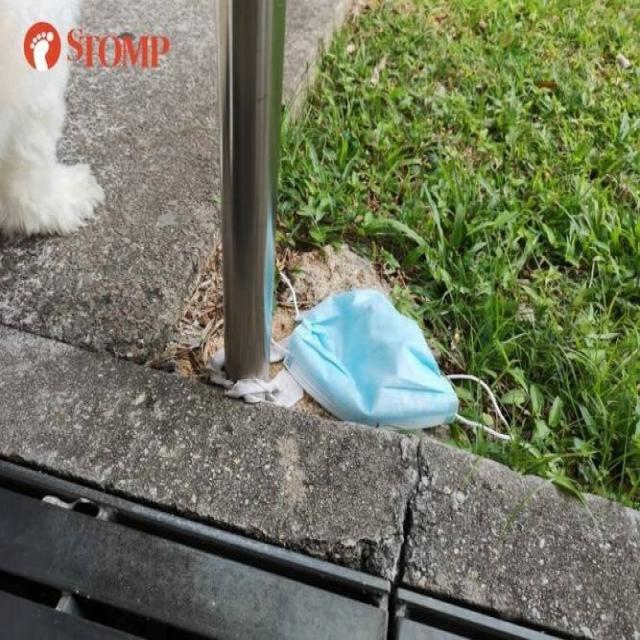face mask: (266, 292, 514, 442)
